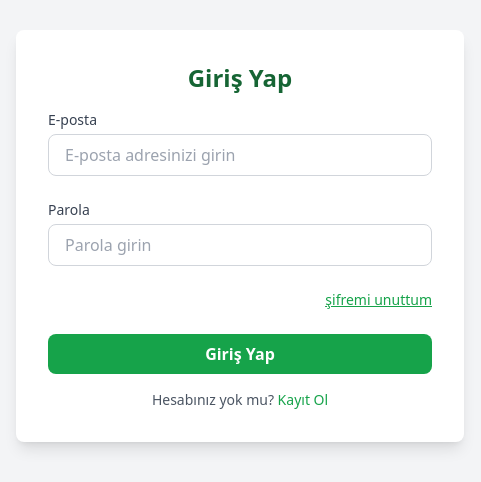
Test: LoginPage › shows the server error and stays on the page when login fails
The image size is (481, 482).
Type "ayse@example.com" into the field labelled "E-posta" at {"x": 240, "y": 155}, box [48,134,432,176]
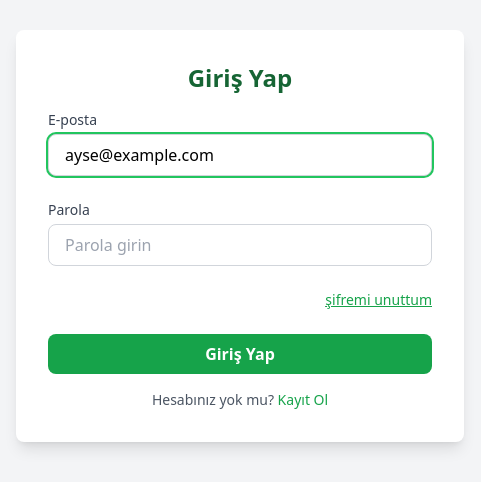
Type "yanlis-parola" into the password field labelled "Parola" at {"x": 240, "y": 245}, box [48,224,432,266]
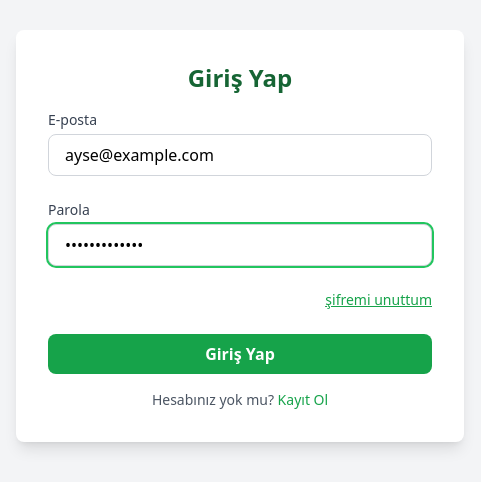
Click the button "Giriş Yap" at {"x": 240, "y": 354}, box [48,334,432,374]
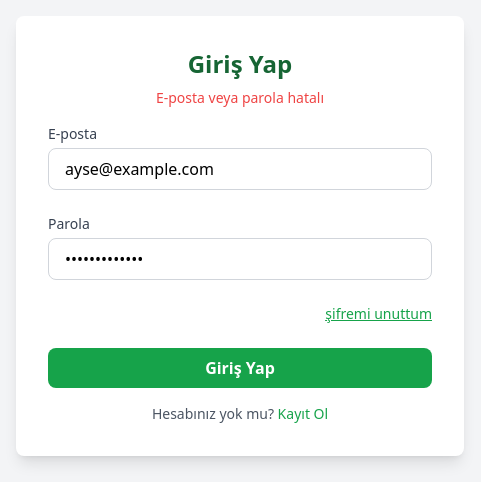
Check: the button "Giriş Yap" is enabled, box [48,348,432,388]
Check: the message reads "E-posta veya parola hatalı", box [156,88,324,107]
